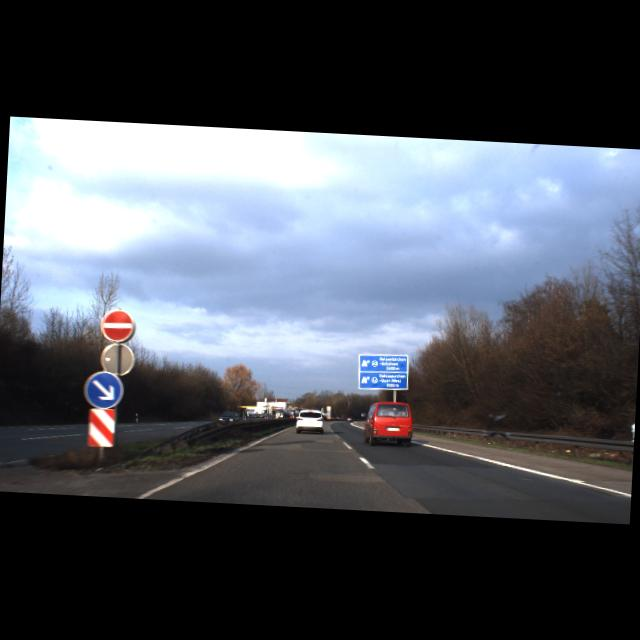mandatory: (84, 370, 122, 409)
other: (101, 309, 134, 342)
